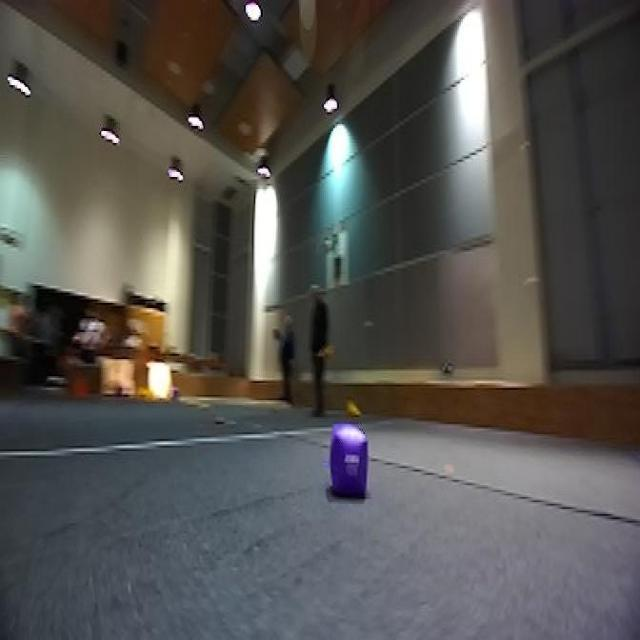frc_cone: (345, 393, 362, 417), (316, 342, 334, 363), (132, 383, 154, 400)
frc_cube: (328, 426, 370, 498), (111, 382, 126, 398), (170, 386, 183, 404)
